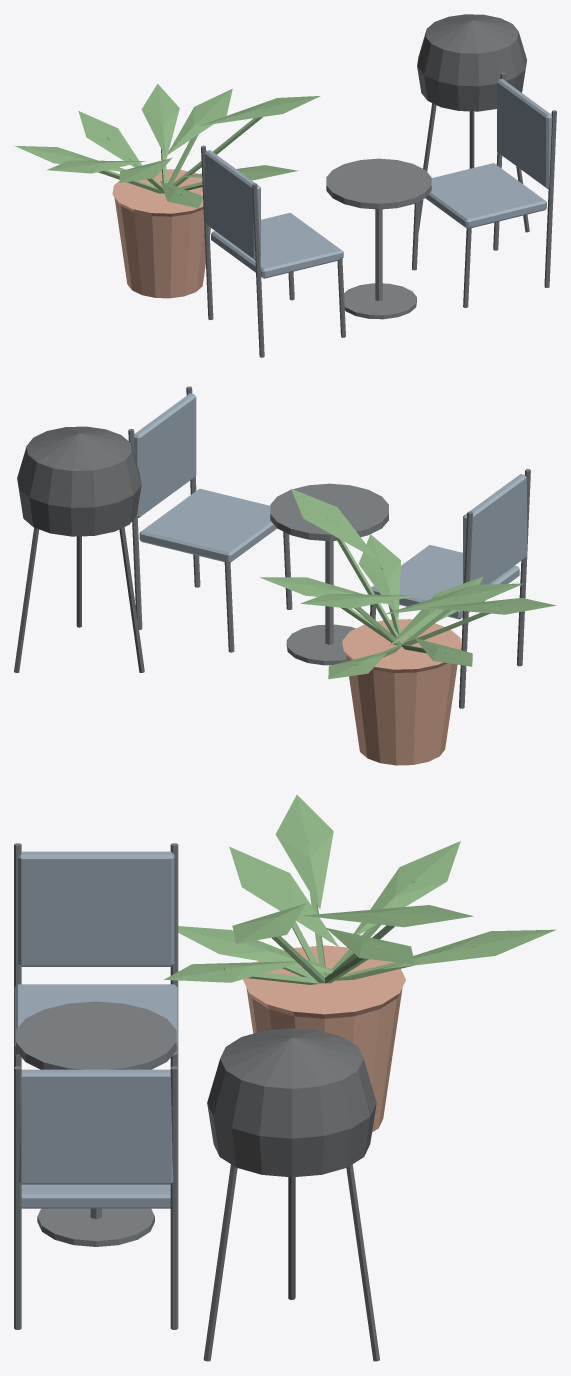
Rendered from patio_l.glb.
The picture shows the model from 3 angles, top to bottom: view 1: azimuth 30°, elevation 25°; view 2: azimuth 150°, elevation 25°; view 3: azimuth 270°, elevation 25°; orthographic projection. The views are drawn at different scales.
Visible parts, largest first — view 1: patio_l_fabric2, patio_l_steel_d, patio_l_plant, patio_l_iron, patio_l_pot; view 2: patio_l_fabric2, patio_l_iron, patio_l_plant, patio_l_pot, patio_l_steel_d; view 3: patio_l_fabric2, patio_l_iron, patio_l_plant, patio_l_steel_d, patio_l_pot.
Boxes of the visible parts, box(x1,y1,x2,y2) form: patio_l_fabric2: box(204, 78, 552, 278); patio_l_steel_d: box(201, 72, 556, 357); patio_l_plant: box(14, 84, 320, 208); patio_l_iron: box(417, 14, 529, 232); patio_l_pot: box(112, 169, 210, 298); patio_l_fabric2: box(133, 393, 526, 619); patio_l_iron: box(14, 426, 144, 672); patio_l_plant: box(259, 488, 556, 679); patio_l_pot: box(342, 619, 461, 765); patio_l_steel_d: box(128, 386, 530, 708); patio_l_fabric2: box(14, 851, 177, 1208); patio_l_iron: box(203, 1028, 379, 1361); patio_l_plant: box(164, 795, 556, 984); patio_l_steel_d: box(14, 843, 178, 1329); patio_l_pot: box(243, 945, 405, 1132).
Bounding box in the file's own units: 2.55 × 1.02 × 1.66.
